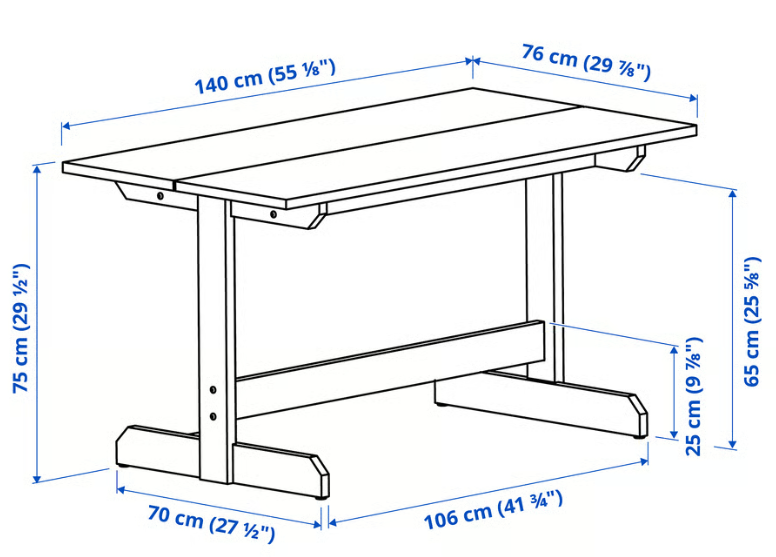table_legs: (116, 195, 329, 498), (435, 173, 648, 436)
table_support: (231, 145, 646, 229), (236, 320, 545, 419), (116, 181, 198, 211)
table_top: (62, 87, 697, 210)
